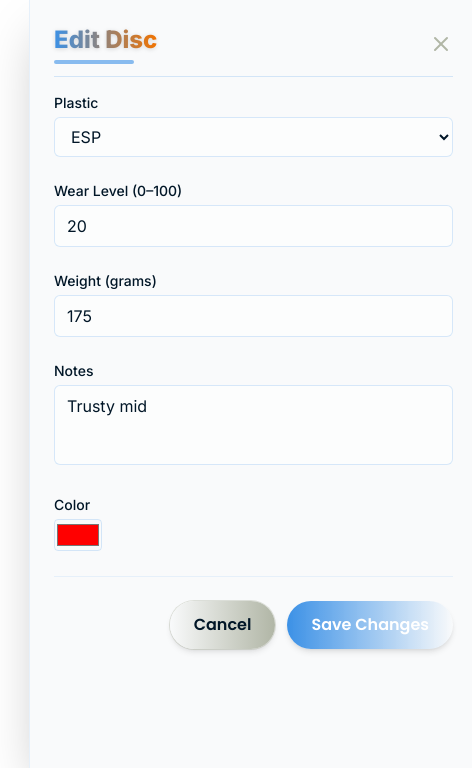
Test: DiscEditModal › shows validation message when wear level out of range
Replace the text in the number field below "Wear Level (0–100)" with "150": [254, 226] box [54,205,453,247]
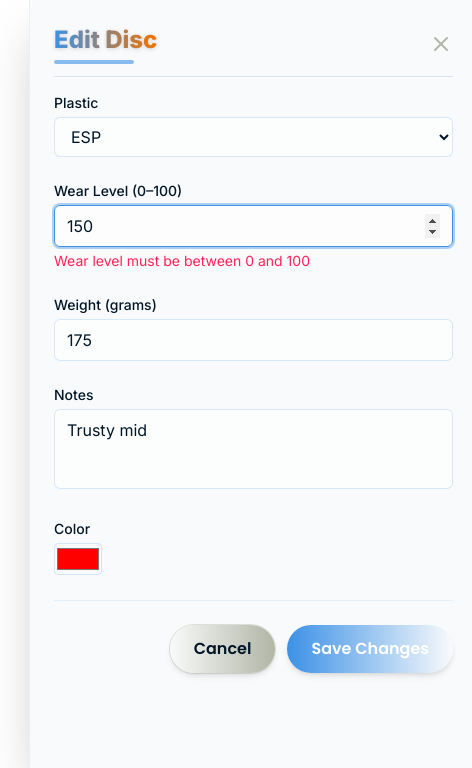
Now the text "Wear level must be between 0 and 100" is shown, box [54,252,310,269]
